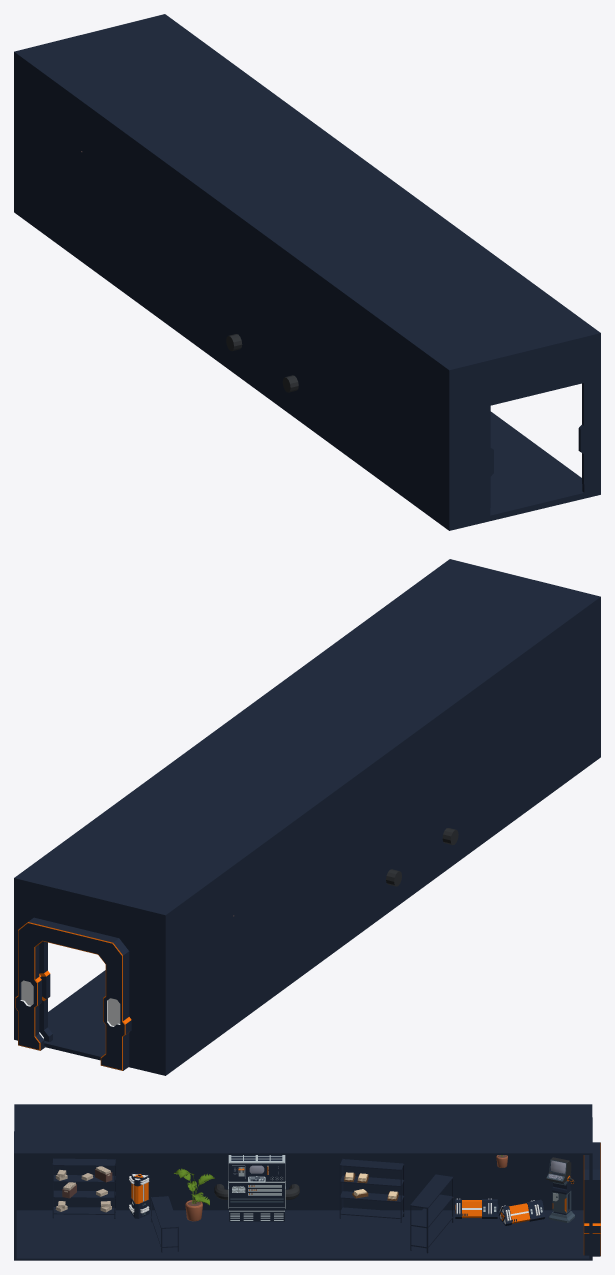
File: Room_1.fbx
The picture shows the model from 3 angles, top to bottom: view 1: azimuth 30°, elevation 25°; view 2: azimuth 150°, elevation 25°; view 3: azimuth 270°, elevation 25°; orthographic projection. The views are drawn at different scales.
Visible parts, largest first — view 1: Cube.085; view 2: Cube.085, Cube.465; view 3: Cube.085, Cylinder.095, Cube.093, Cube.089, Cube.086, Cube.465, Cube.090, Cube.088, Cylinder.039, Cylinder.096, Cylinder.097, Cylinder.006.
Part boxes in pixels (x1,y1,x2,y2): Cube.085: [14, 14, 600, 530]; Cube.085: [14, 559, 600, 1075]; Cube.465: [15, 917, 131, 1070]; Cube.085: [14, 1104, 592, 1260]; Cylinder.095: [214, 1155, 299, 1221]; Cube.093: [410, 1174, 453, 1253]; Cube.089: [339, 1158, 404, 1222]; Cube.086: [52, 1158, 115, 1218]; Cube.465: [583, 1142, 600, 1256]; Cube.090: [546, 1157, 574, 1222]; Cube.088: [150, 1196, 178, 1252]; Cylinder.039: [498, 1199, 545, 1225]; Cylinder.096: [129, 1172, 149, 1218]; Cylinder.097: [455, 1198, 498, 1218]; Cylinder.006: [174, 1168, 214, 1221].
Bounding box in the file's own units: 214 × 207 × 1026.
8 materials, 8 textured.
